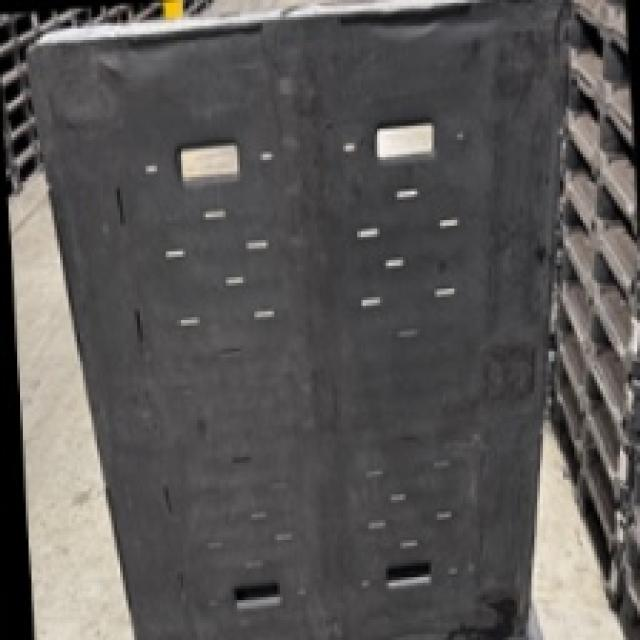igps: (17, 0, 587, 640)
